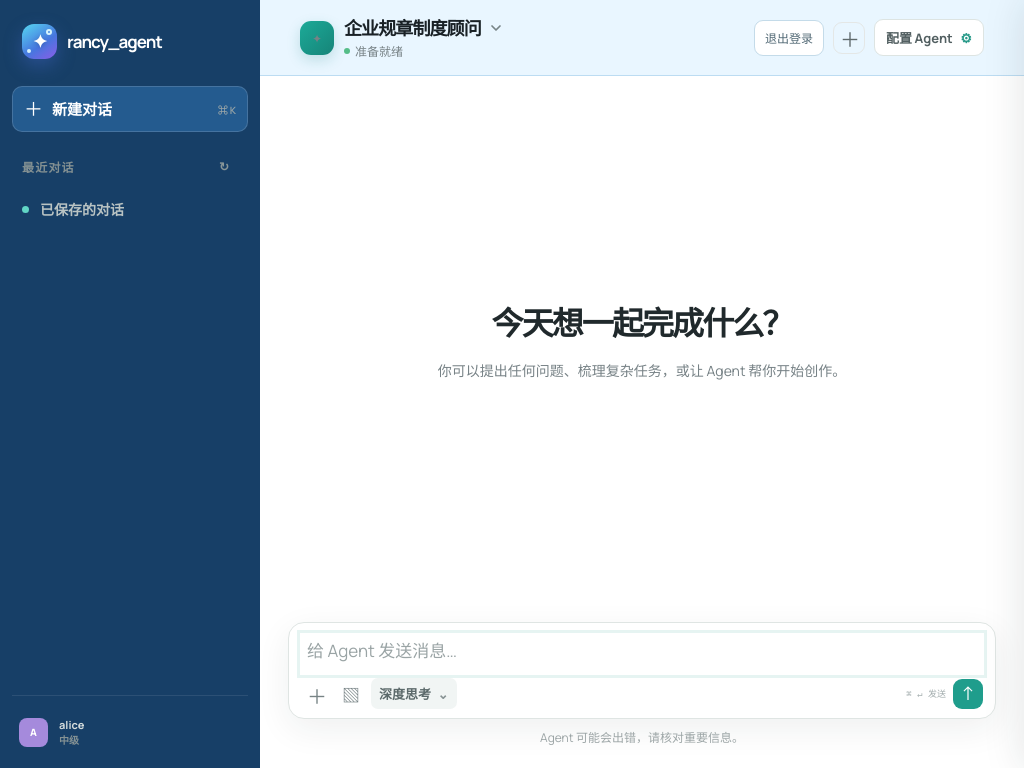
it: clears private workspace data on 401 and allows logging in again
Expected: the button "退出登录" is shown, [754,20,824,56]
Type "私有草稿" into the text box named "消息内容".
click(642, 654); type("私有草稿")  # box [300,633,984,675]
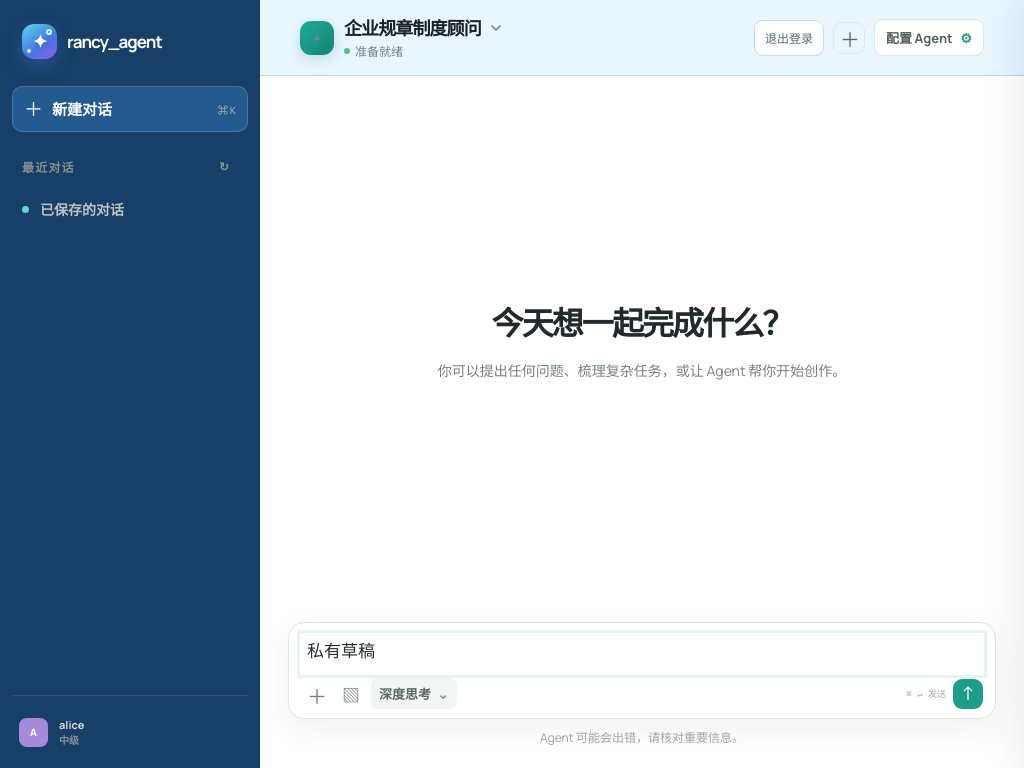
Click the button "已保存的对话".
click(128, 209)  # box [12,189,245,229]
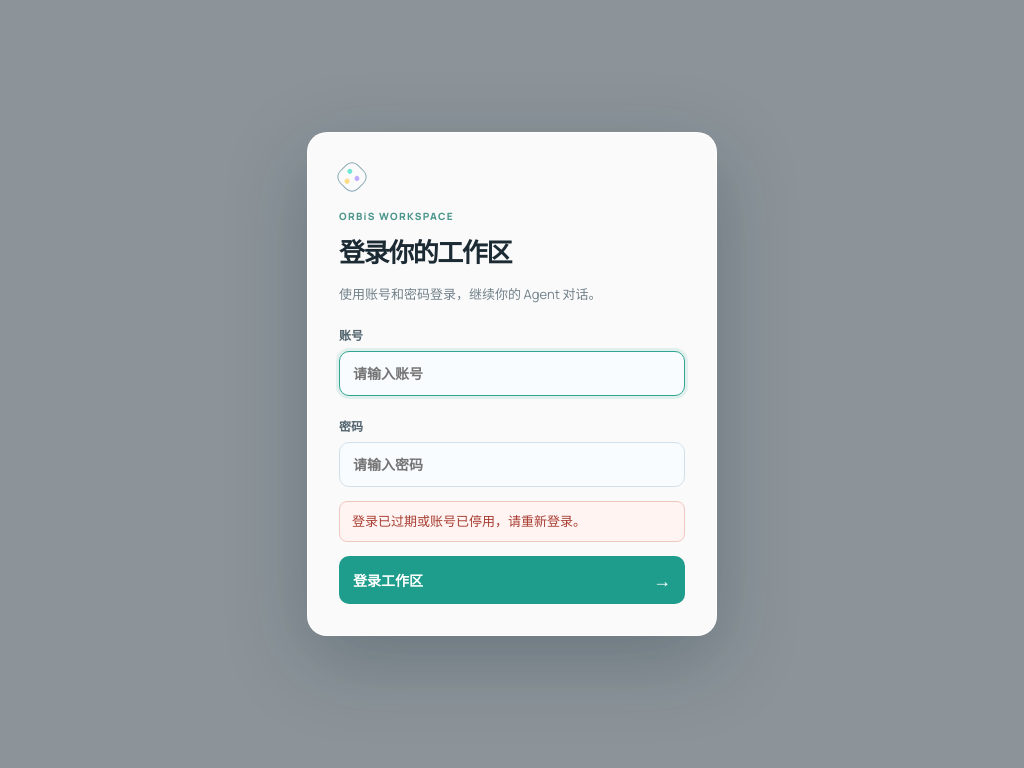
Now the heading "登录你的工作区" is shown, box [339,234,511,270]
Now the text box labelled "消息内容" is gone
Now the message shows "登录已过期", box [352,512,586,530]
